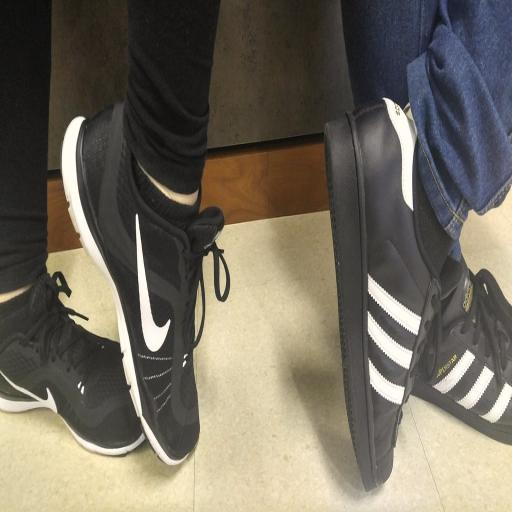shoe: (62, 104, 230, 465), (325, 98, 451, 490), (0, 273, 144, 455), (411, 258, 512, 444)
